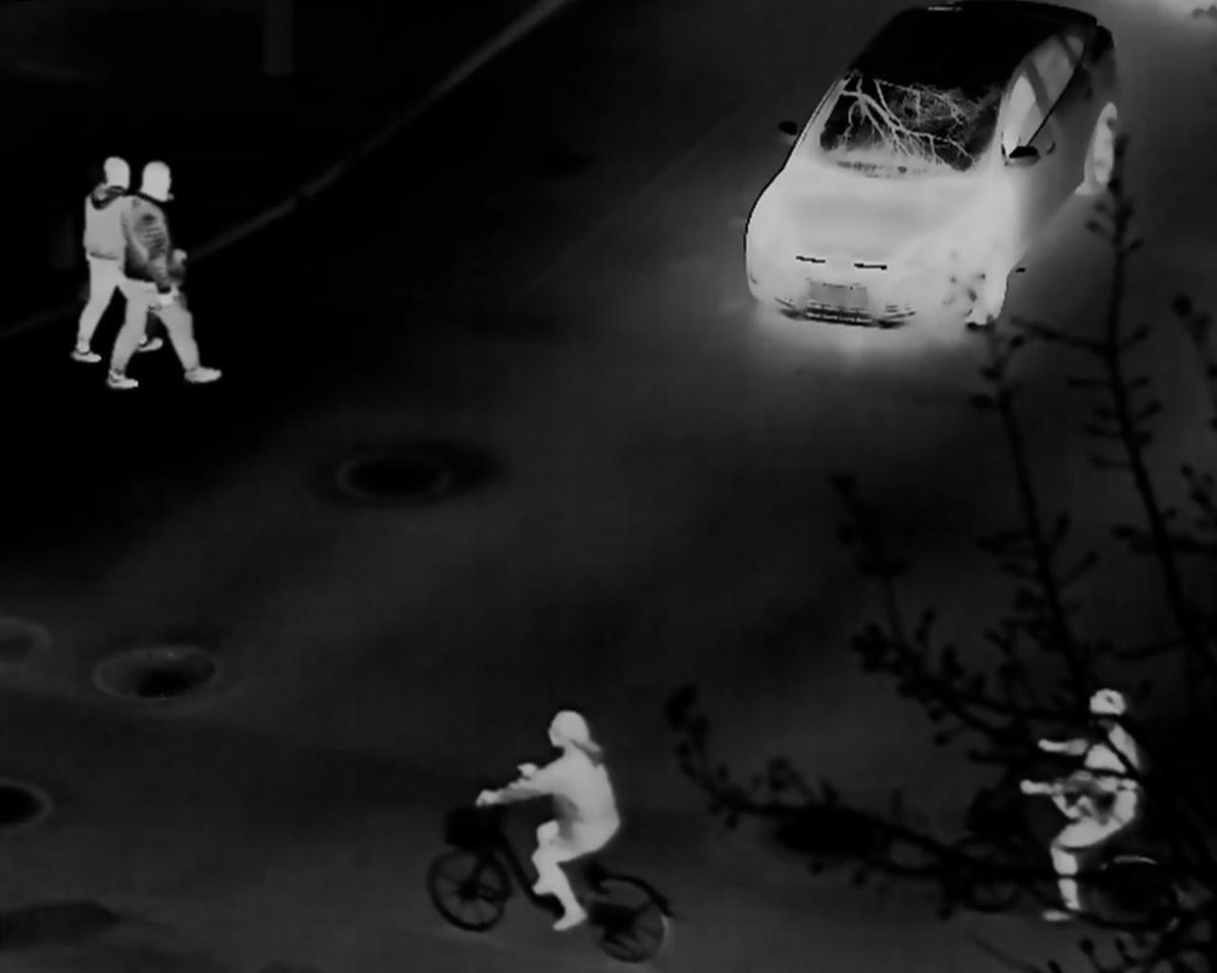person: (473, 708, 622, 933), (1014, 689, 1142, 921), (104, 159, 222, 389), (71, 156, 164, 365)
